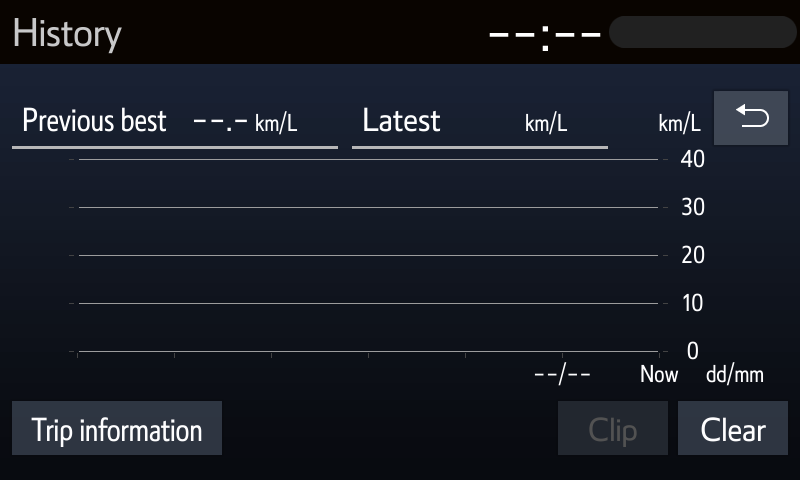touchPart: (13, 401, 222, 453), (677, 403, 788, 455), (713, 89, 788, 146)
untouchPart: (10, 96, 708, 386), (608, 11, 796, 52), (481, 8, 605, 55), (560, 402, 668, 453), (10, 12, 124, 59)
